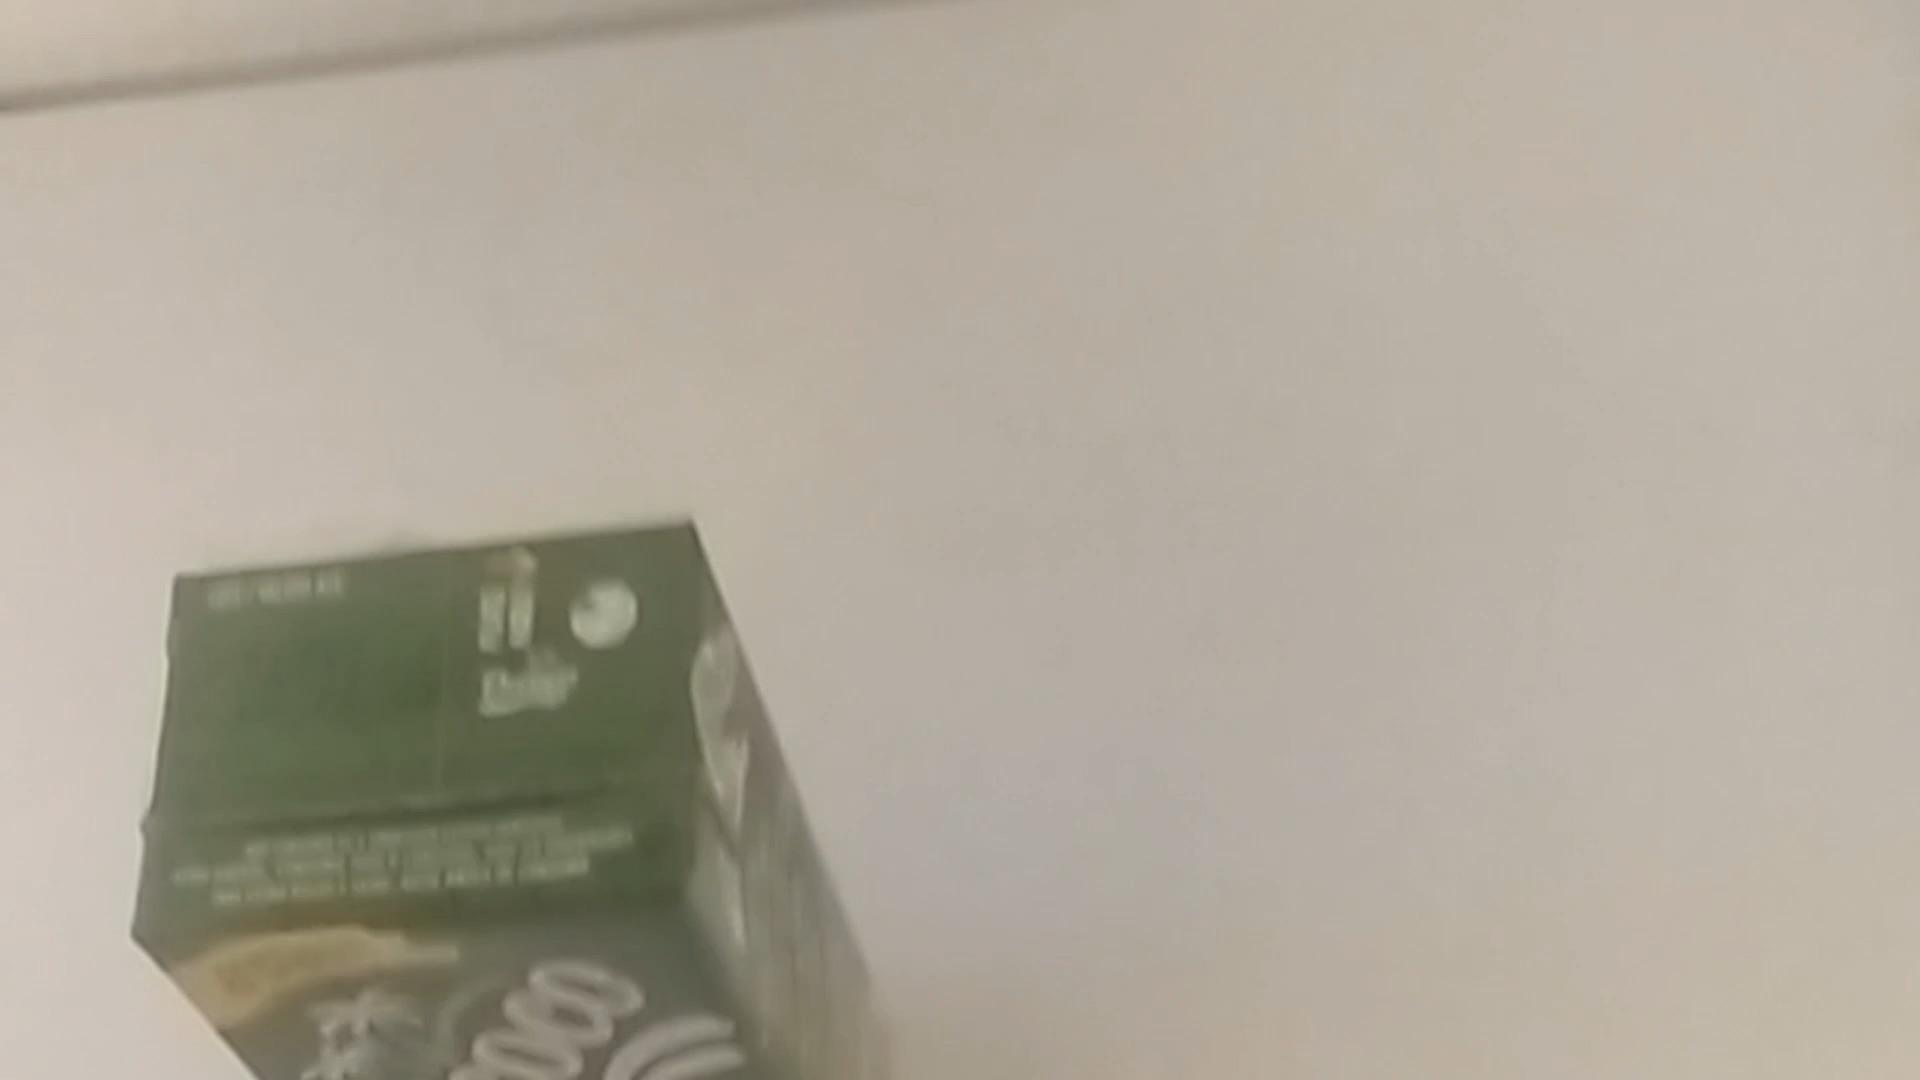coco: (137, 522, 873, 1080)
